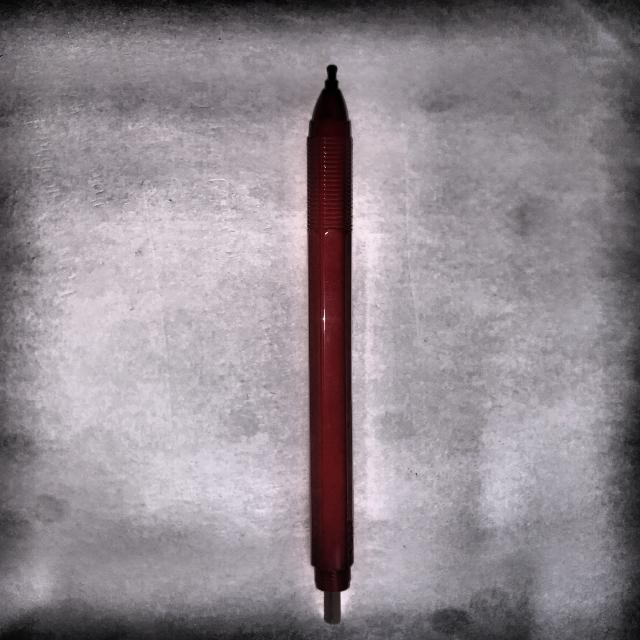Pulpen: (282, 45, 378, 633)
